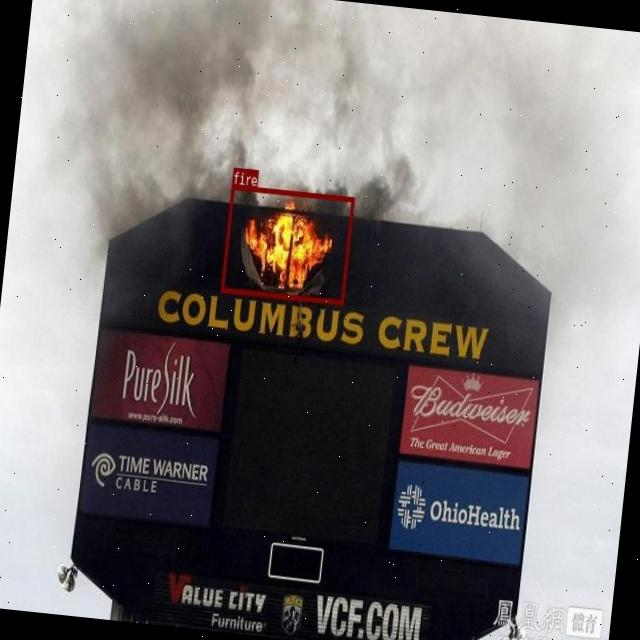fire: (220, 184, 354, 304)
